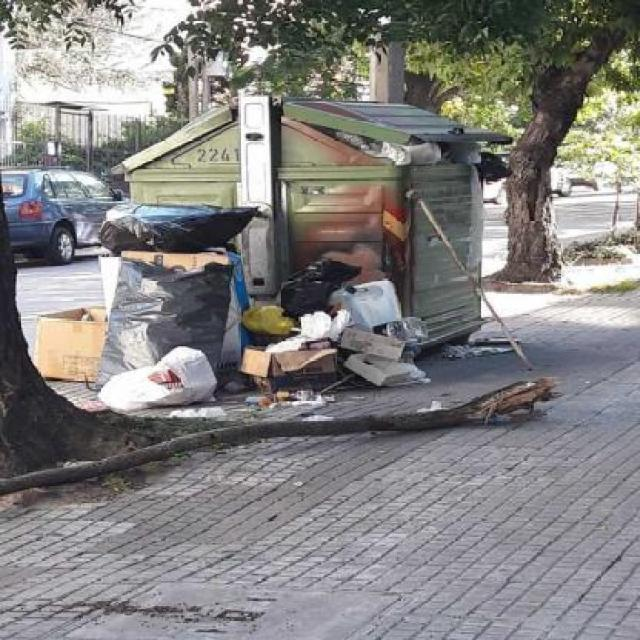garbage: (56, 180, 443, 424), (23, 296, 246, 423), (402, 182, 526, 375), (342, 128, 463, 170)
